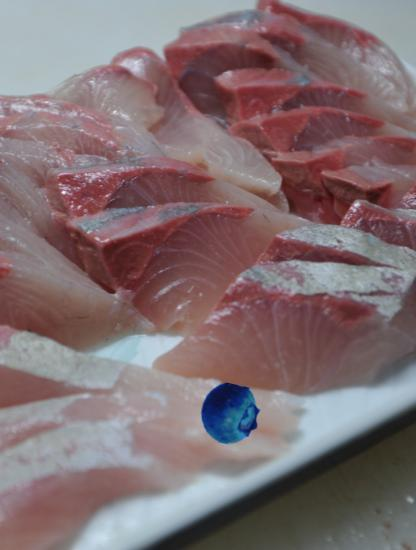Huckleberry: (200, 384, 261, 445)
